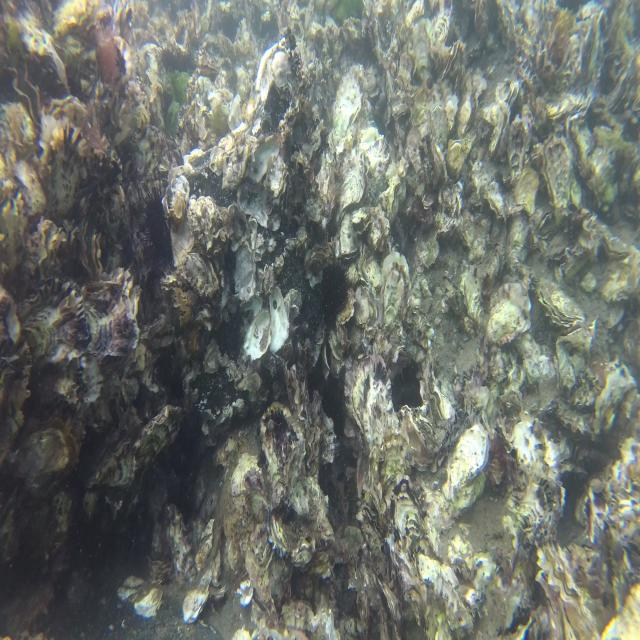echinus: (140, 175, 175, 271), (322, 254, 352, 316), (169, 482, 197, 525), (157, 41, 180, 72)
